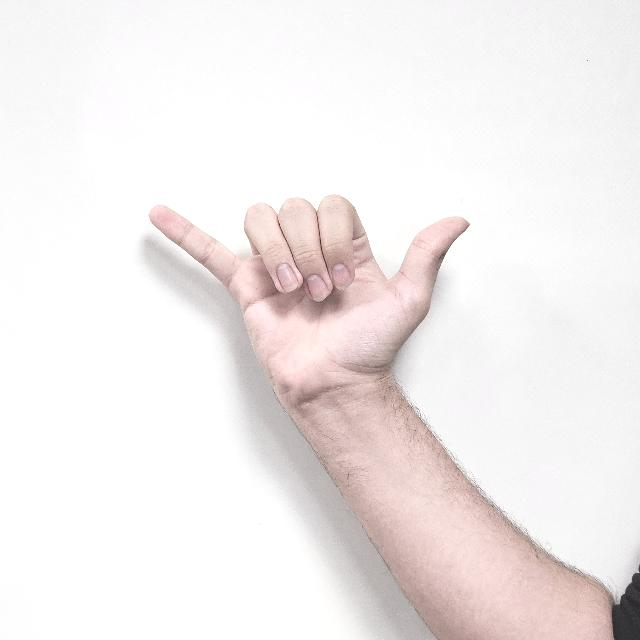Direita: (137, 168, 528, 416)
